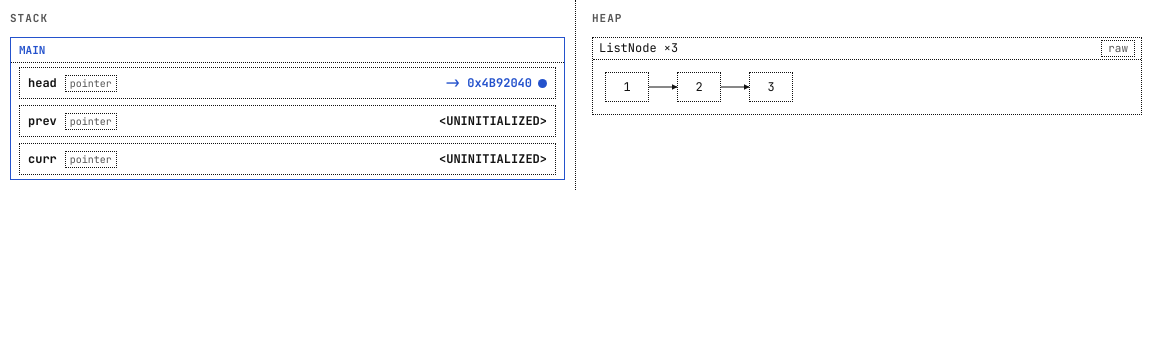
MemoryView shape integration › raw toggle brings the generic cells back, and the panel goes away
Click the button "raw": (1118, 48) top-left (1101, 40), bottom-right (1135, 57)
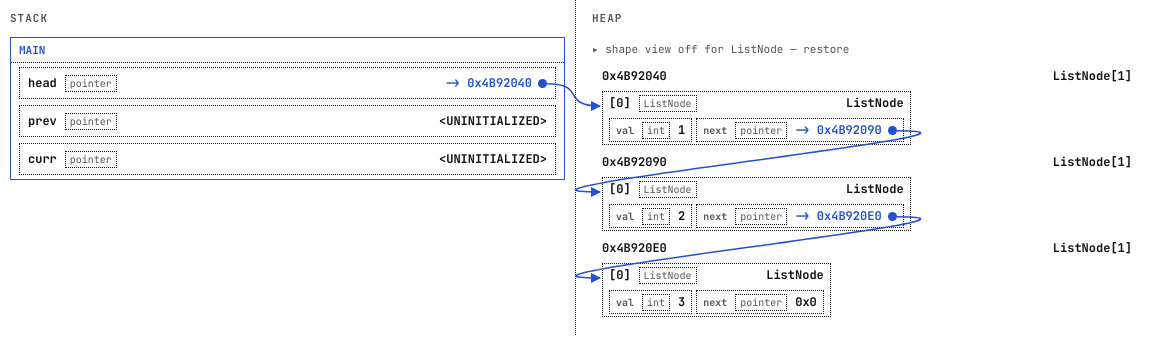
Result: the element with test id "shape-ListNode" is gone
Result: the element that starts with "0x4B92040" is shown at top-left (600, 63), bottom-right (1134, 149)
